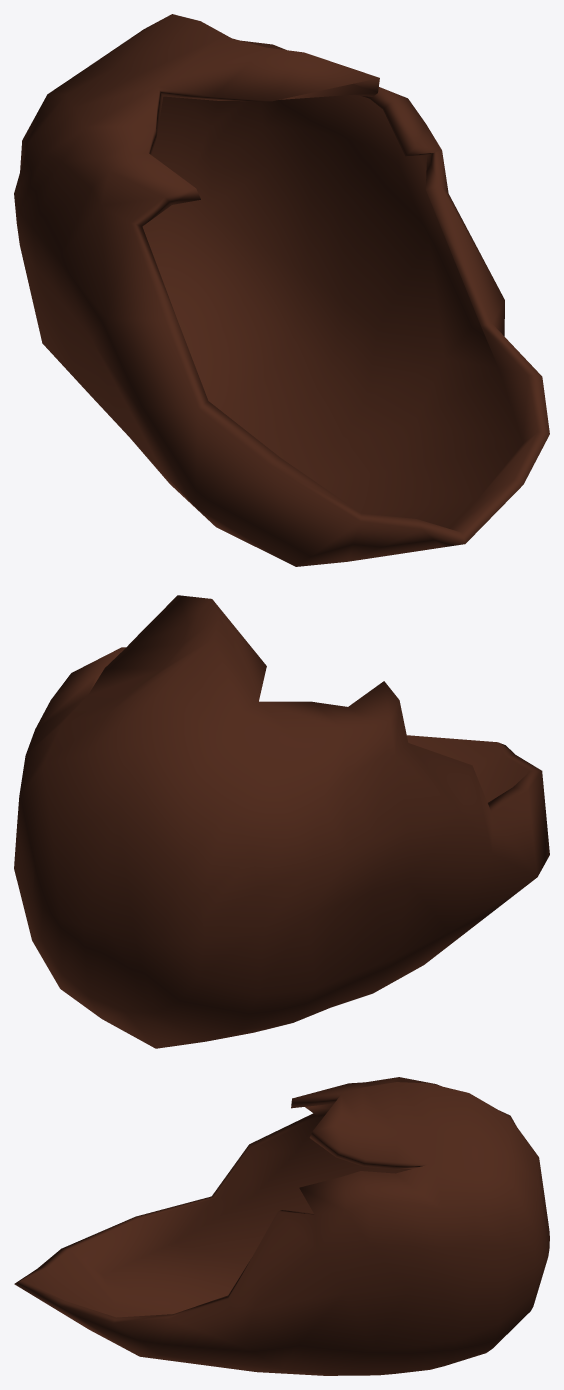
3 views of the same model, one above another, from view 1: azimuth 30°, elevation 25°; view 2: azimuth 150°, elevation 25°; view 3: azimuth 270°, elevation 25° (orthographic). The views are drawn at different scales.
Visible parts, largest first — view 1: Cube.003; view 2: Cube.003; view 3: Cube.003.
Boxes of the visible parts, <box> form: Cube.003: <box>14,14,549,566</box>; Cube.003: <box>14,595,549,1048</box>; Cube.003: <box>14,1077,549,1375</box>.
Bounding box in the file's own units: 99.53 × 107 × 179.
